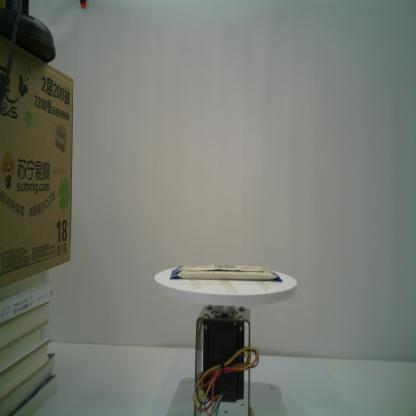Chocolate: (169, 263, 283, 282)
